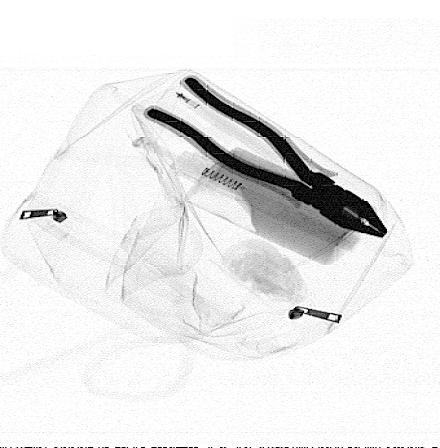Pliers: (143, 76, 389, 239)
